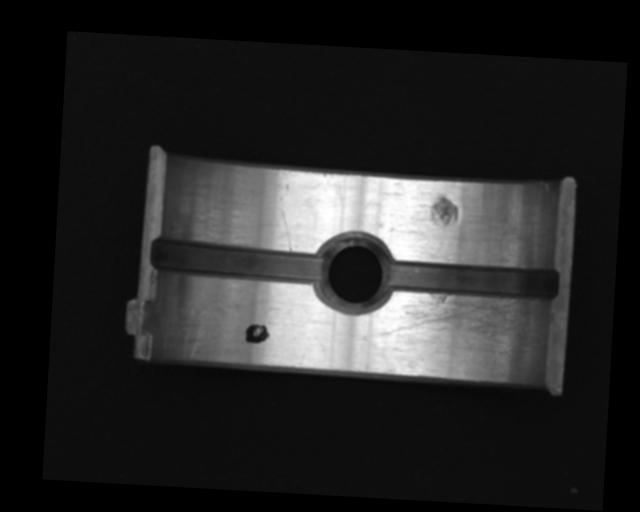blot: (243, 323, 270, 345)
bruise: (429, 195, 460, 228)
gap: (148, 235, 329, 285), (384, 257, 559, 301)
hole: (316, 229, 396, 315)
nick: (276, 195, 294, 251)
scratch: (377, 289, 549, 360)
